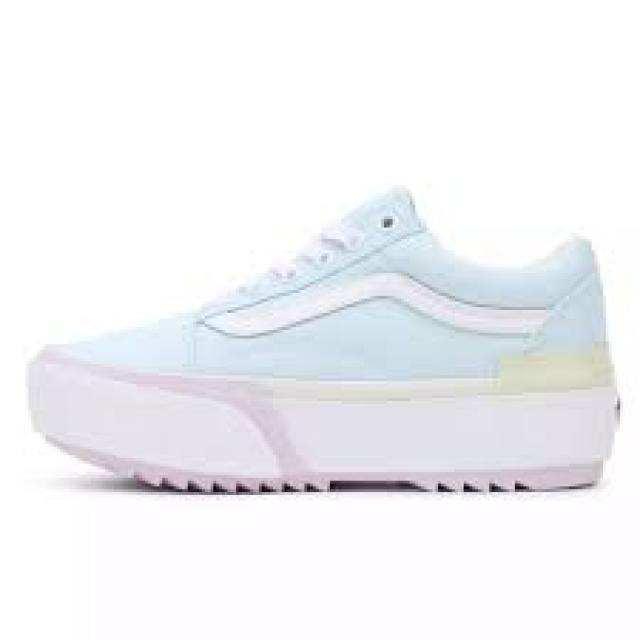shoe: (21, 185, 614, 493)
